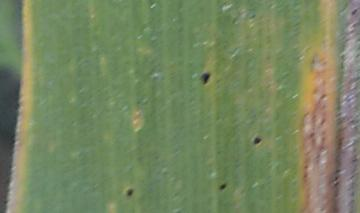tarspot: (198, 71, 211, 86), (251, 134, 262, 147), (217, 181, 227, 193), (125, 187, 135, 199), (350, 6, 360, 18), (247, 13, 257, 21)
